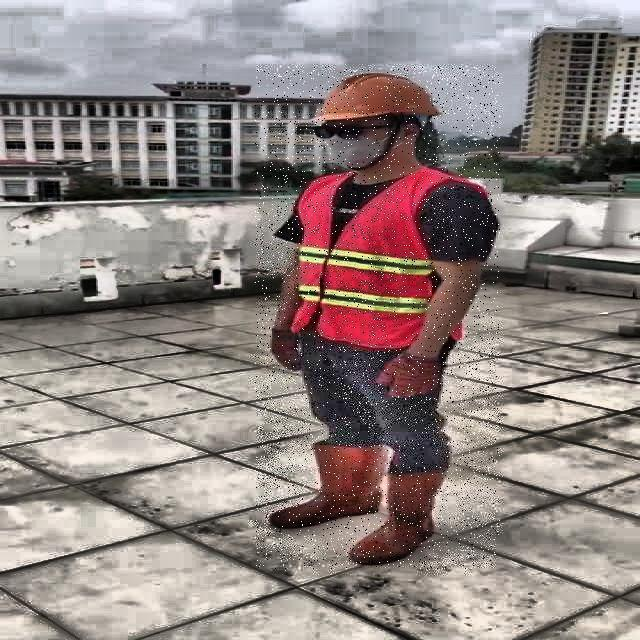safety_helmet: (311, 67, 445, 126)
safety_jacket: (296, 169, 466, 347)
